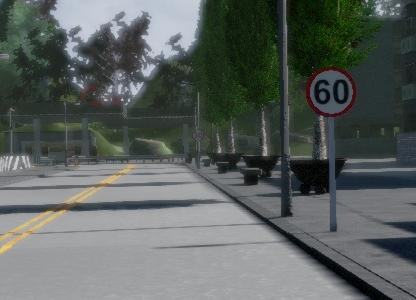Speed_60: (372, 48, 416, 113)
